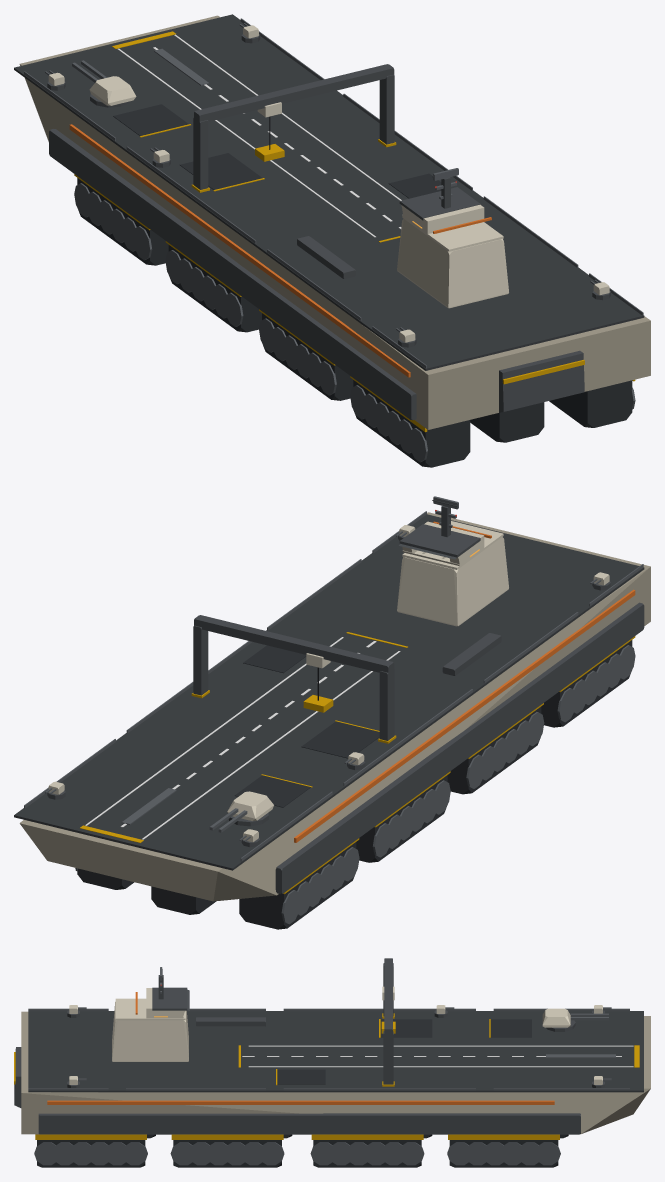
Rendered from hum_carrier.glb.
The picture shows the model from 3 angles, top to bottom: view 1: azimuth 30°, elevation 25°; view 2: azimuth 150°, elevation 25°; view 3: azimuth 270°, elevation 25°; orthographic projection. The views are drawn at different scales.
Parts seen in each view (by area): view 1: hull, tracks, structures, tower; view 2: hull, tracks, structures, tower; view 3: hull, tracks, structures, tower.
Boxes of the visible parts, x1=… form: hull: x1=14, y1=14, x2=650, y2=429; tracks: x1=74, y1=174, x2=635, y2=467; structures: x1=24, y1=18, x2=643, y2=412; tower: x1=397, y1=177, x2=508, y2=308; hull: x1=14, y1=512, x2=650, y2=901; tracks: x1=75, y1=636, x2=635, y2=929; structures: x1=24, y1=511, x2=643, y2=861; tower: x1=397, y1=506, x2=508, y2=626; hull: x1=21, y1=1011, x2=650, y2=1134; tracks: x1=34, y1=1134, x2=568, y2=1167; structures: x1=14, y1=958, x2=629, y2=1107; tower: x1=112, y1=975, x2=189, y2=1061.
Bounding box in the file's own units: 115 × 100 × 364.
2 materials, 2 textured.
